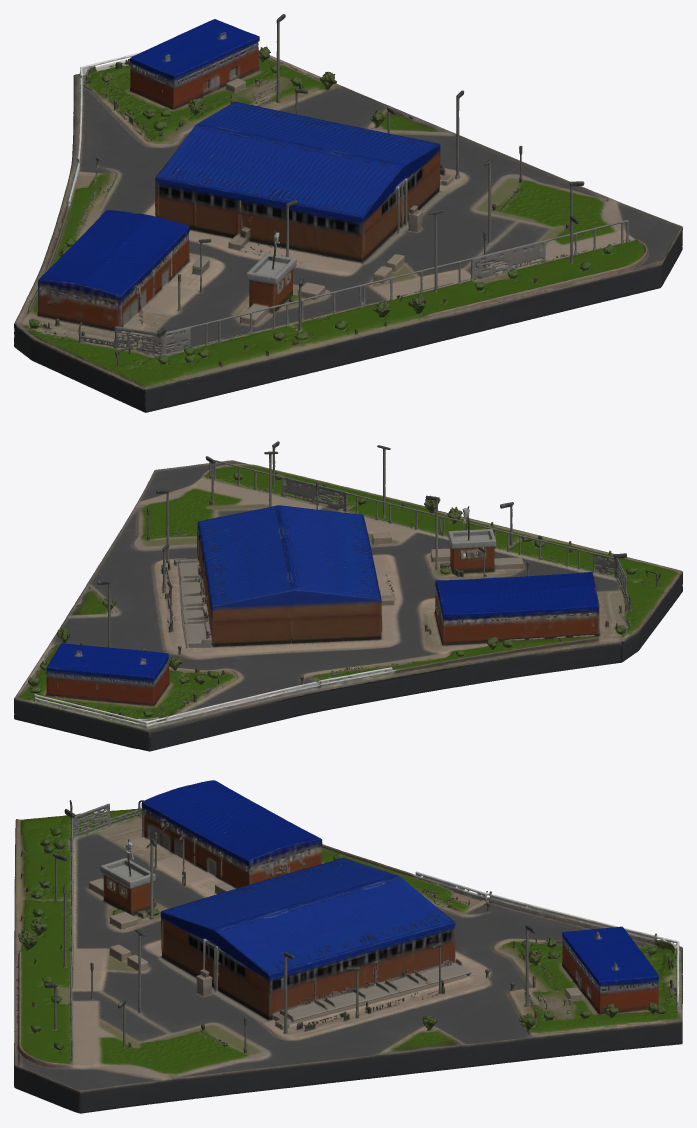
Rendered from faragello-cake-factory-1.glb.
3 renders of one model, top to bottom at view 1: azimuth 30°, elevation 25°; view 2: azimuth 150°, elevation 25°; view 3: azimuth 270°, elevation 25°, orthographic. The views are drawn at different scales.
Size of the model in its own units: 0.9972 by 0.1704 by 0.9792.
1 material, 1 textured.
